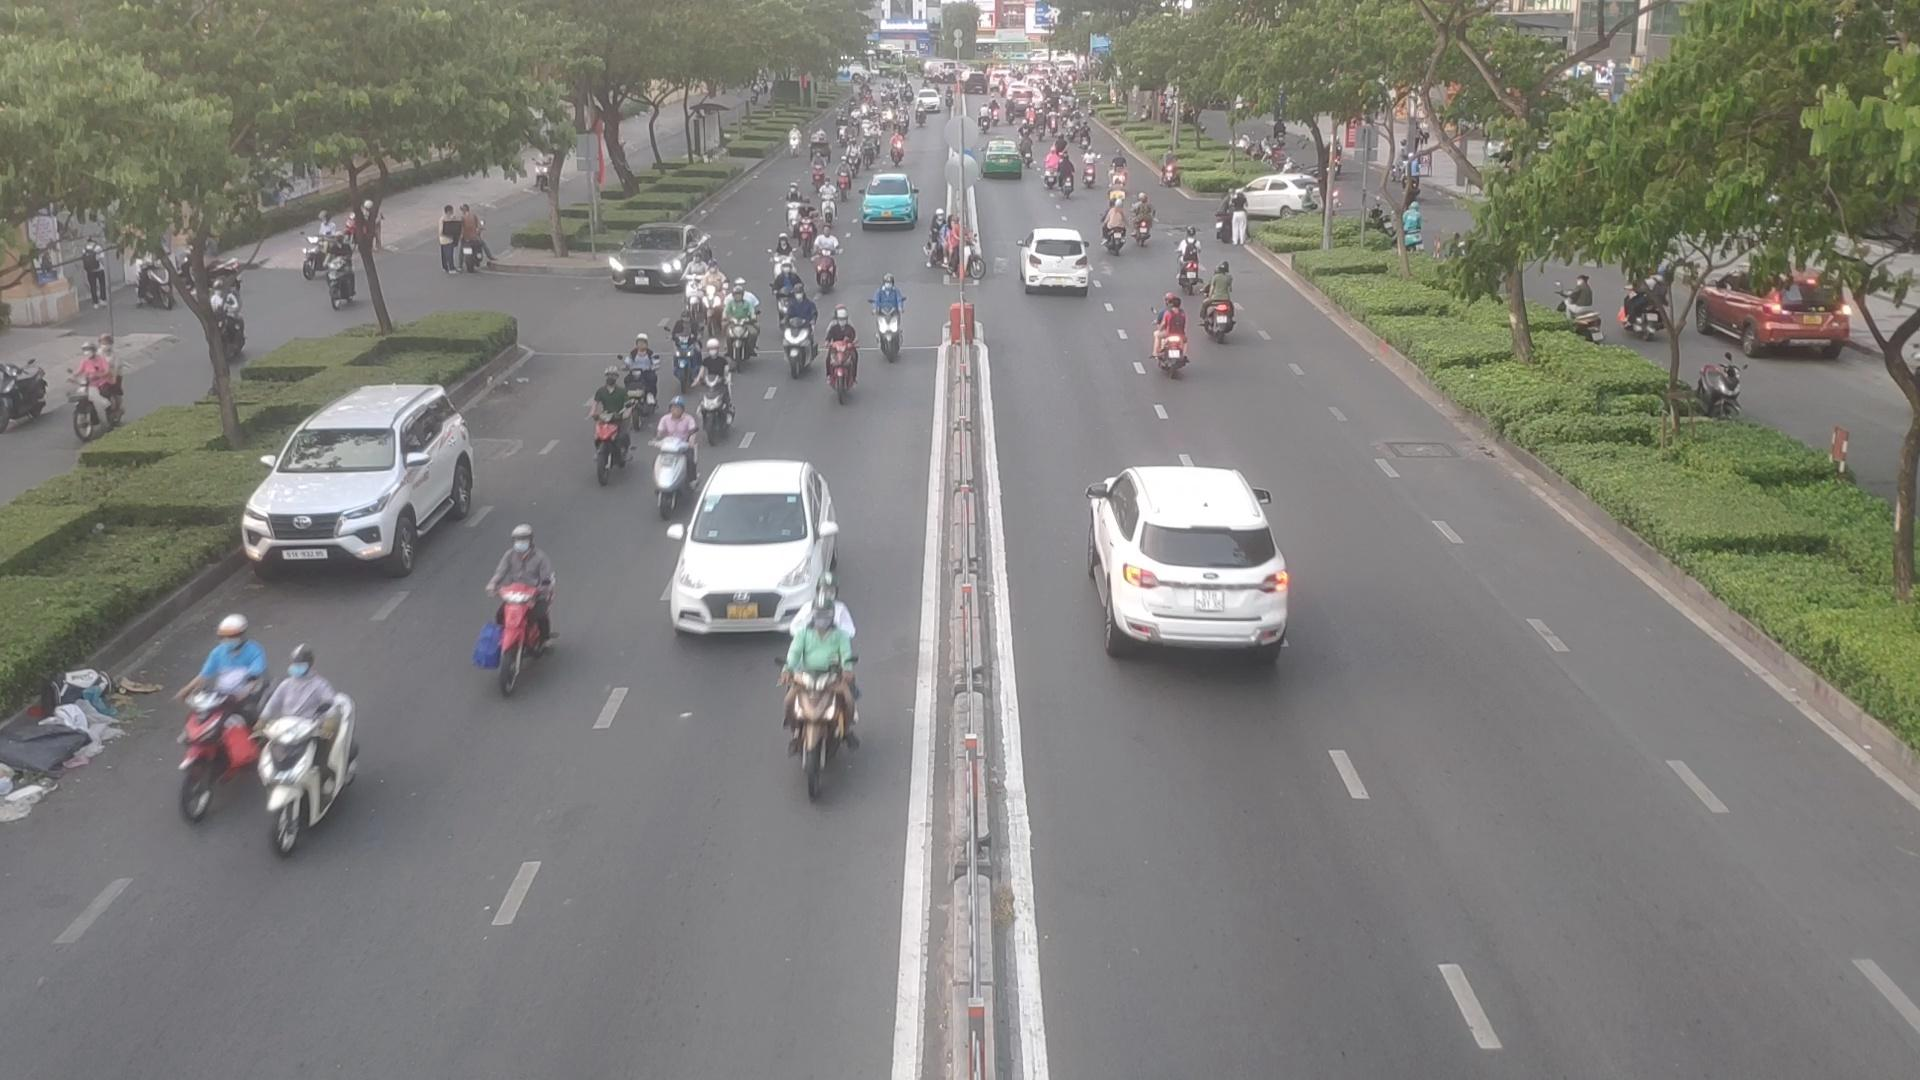car: (241, 382, 489, 576), (1091, 465, 1298, 650), (666, 459, 844, 636), (608, 225, 705, 294), (1023, 229, 1095, 295), (1228, 174, 1321, 218), (853, 173, 914, 231), (980, 144, 1029, 179)
motorbike: (738, 593, 874, 789), (462, 520, 591, 707), (256, 626, 353, 858), (167, 612, 260, 845), (644, 397, 700, 531), (617, 324, 667, 430), (827, 297, 869, 411), (934, 210, 990, 291), (876, 270, 916, 376), (589, 371, 625, 483), (1203, 256, 1244, 345), (698, 342, 733, 440), (781, 286, 815, 376), (721, 276, 760, 355), (1149, 293, 1185, 371), (666, 313, 702, 386), (765, 260, 802, 328), (1171, 224, 1207, 294), (673, 249, 707, 320), (1095, 198, 1131, 262), (698, 256, 728, 332), (814, 225, 837, 293), (777, 182, 803, 240), (793, 196, 815, 253), (922, 210, 945, 262), (1131, 189, 1153, 241), (820, 171, 837, 227), (773, 231, 790, 282)
